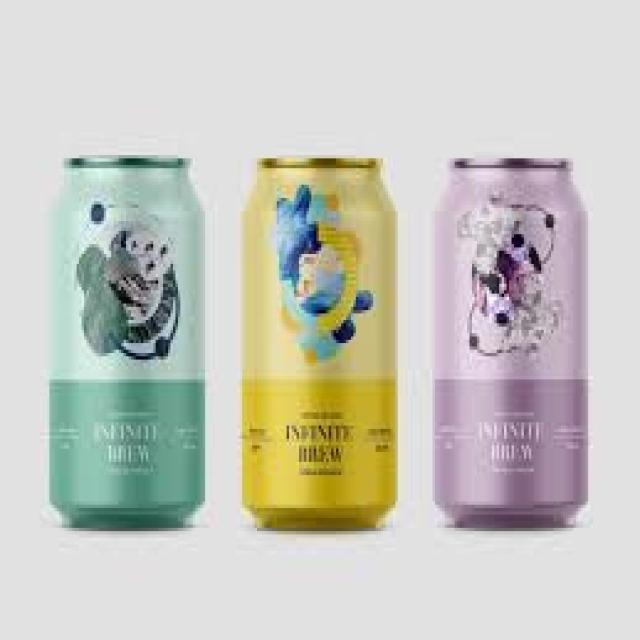Cans: (230, 145, 410, 538), (422, 145, 600, 535), (39, 138, 212, 538)
